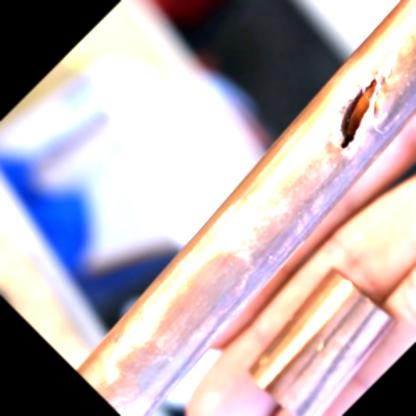burst: (331, 81, 384, 152)
